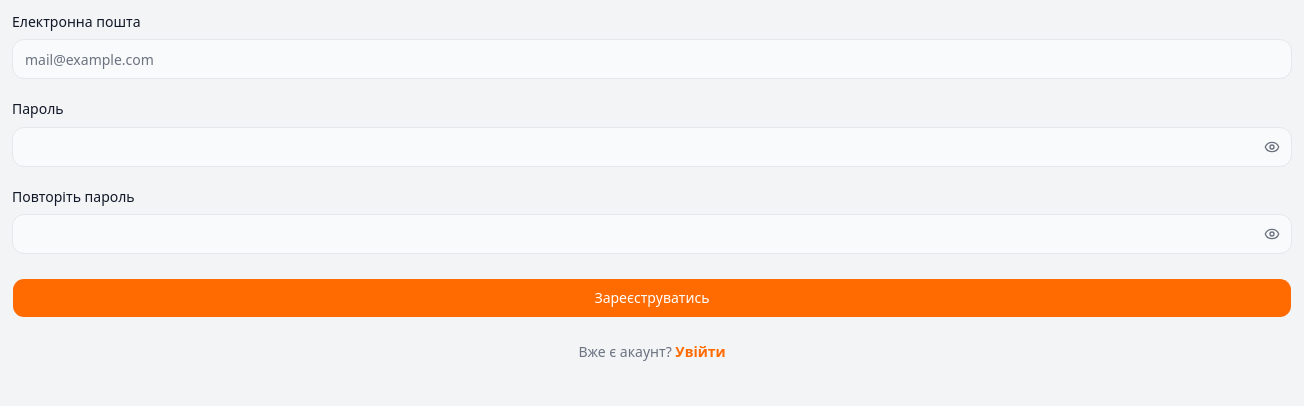
Scenario: RegisterForm › shows the duplicate email error from the API next to the field
This screenshot has width=1304, height=406.
Type "new@example.com" into the field labelled "Електронна пошта" at (652, 59), box [12, 39, 1292, 79]
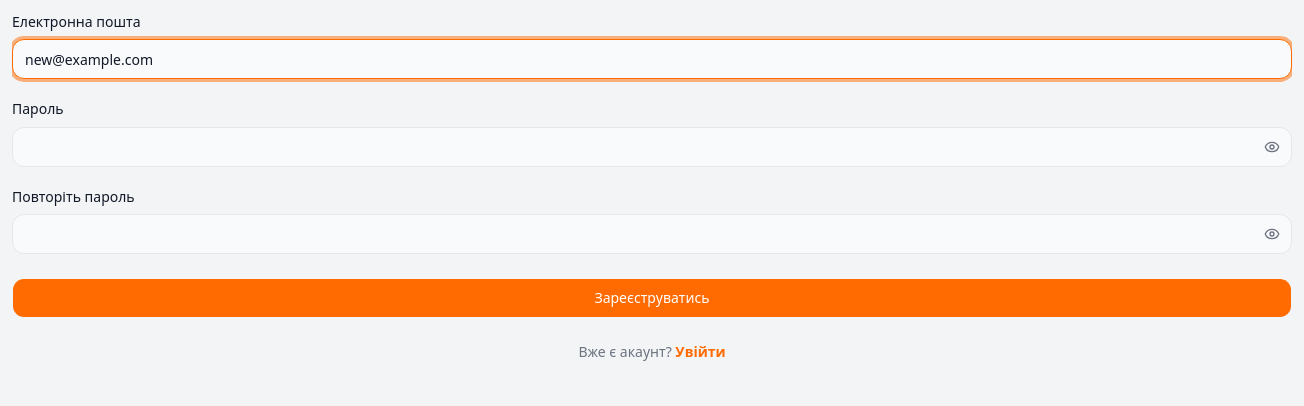
Type "Secret123" into the password field labelled "Пароль" at (652, 146), box [12, 126, 1292, 166]
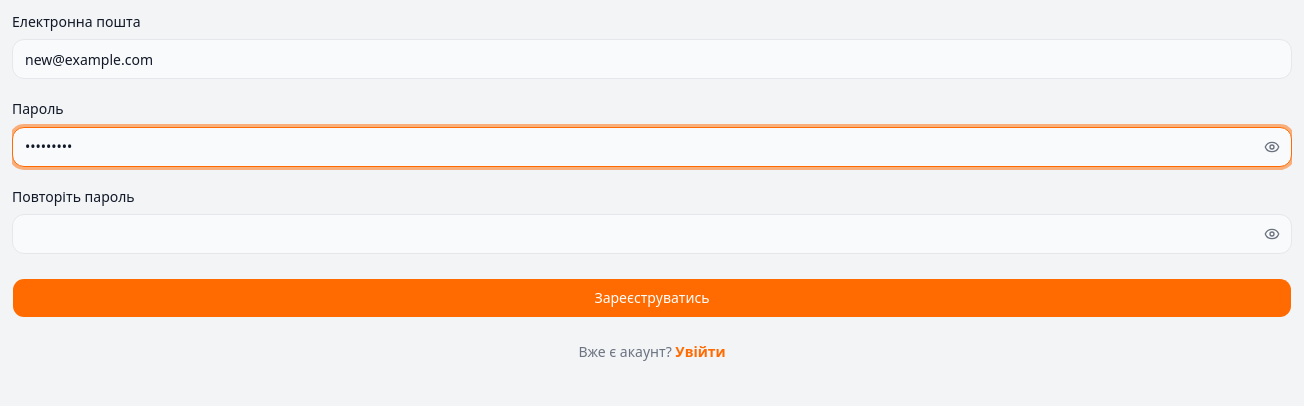
Type "Secret123" into the password field labelled "Повторіть пароль" at (652, 234), box [12, 214, 1292, 254]
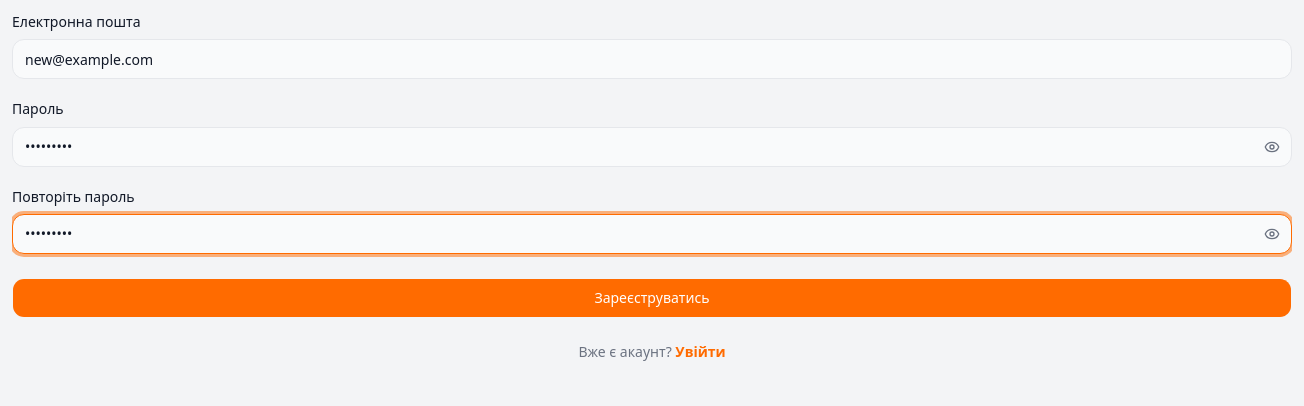
Click the button "Зареєструватись" at (652, 298), box [12, 278, 1292, 318]
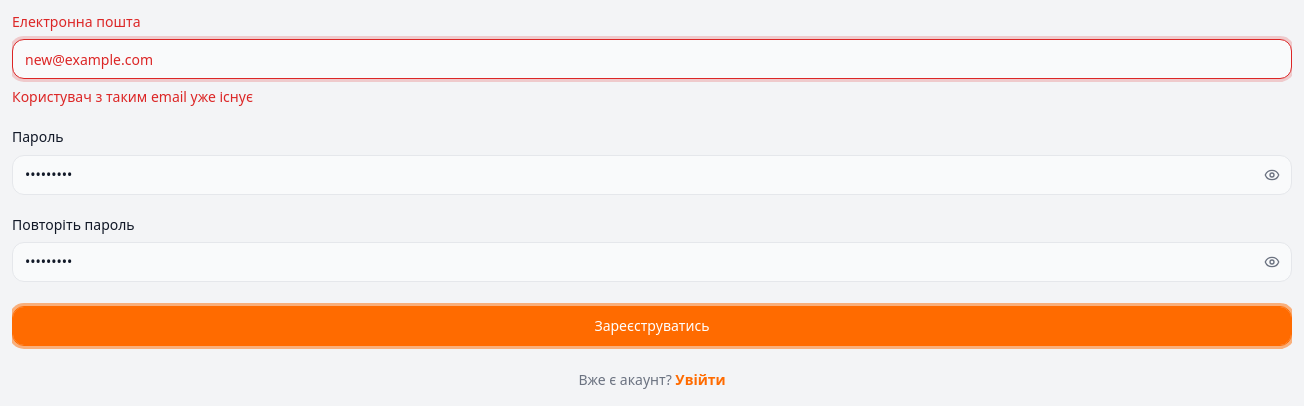
Expected: the text "Користувач з таким email уже існує" is shown, [12, 87, 253, 106]
